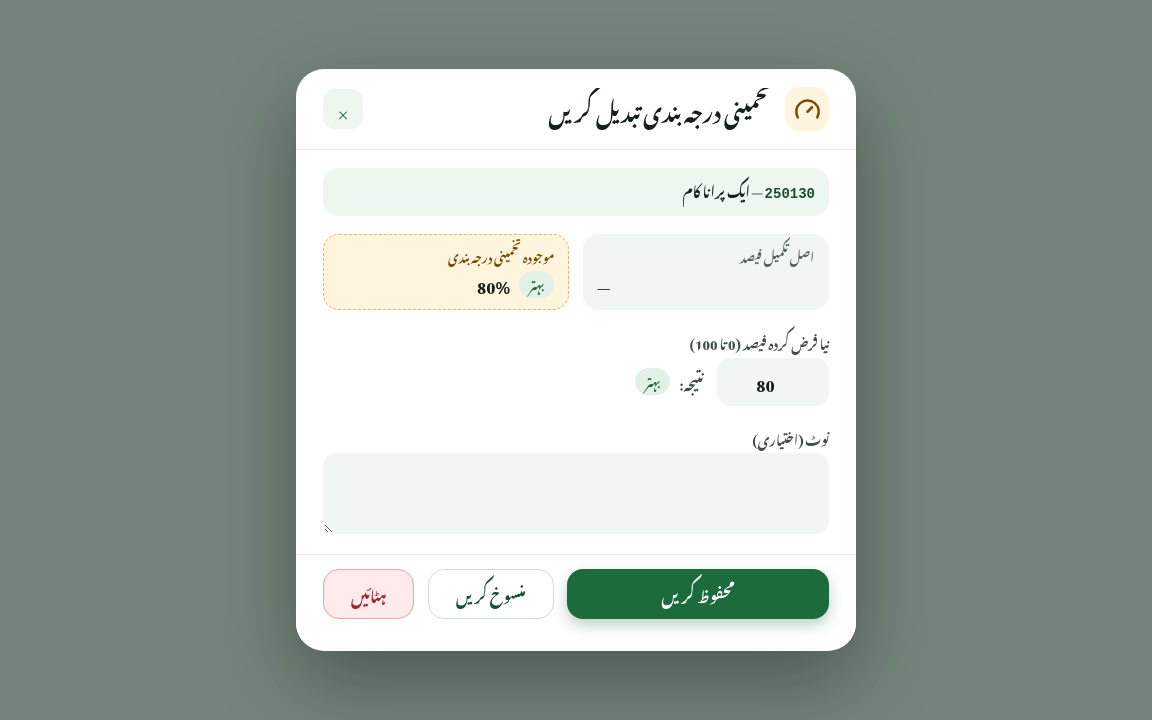
Test: the dialog preview › on-time task and open overdue task, 90%: ممتاز, no hint
Replace the text in the number field labelled "نیا فرض کردہ فیصد (0 تا 100)" with "90" at (773, 382), box left=717, top=358, right=829, bottom=406
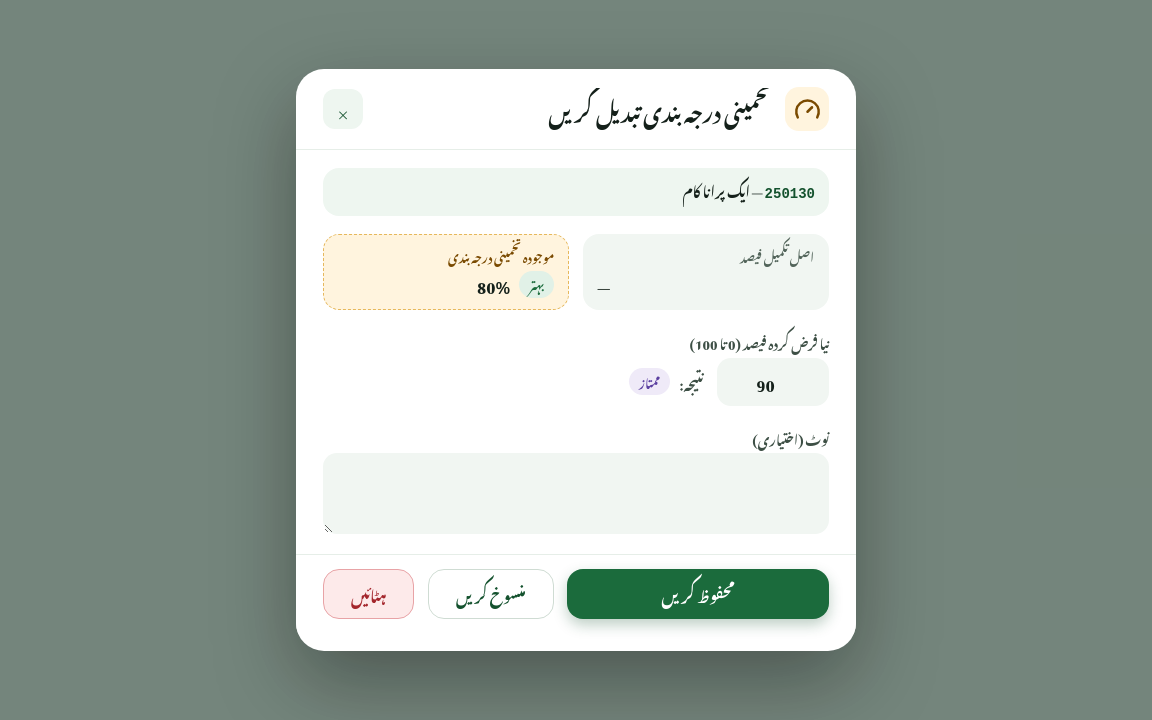
Expected: the element with id "synthetic-percent-preview" shows "ممتاز", left=639, top=366, right=660, bottom=396
